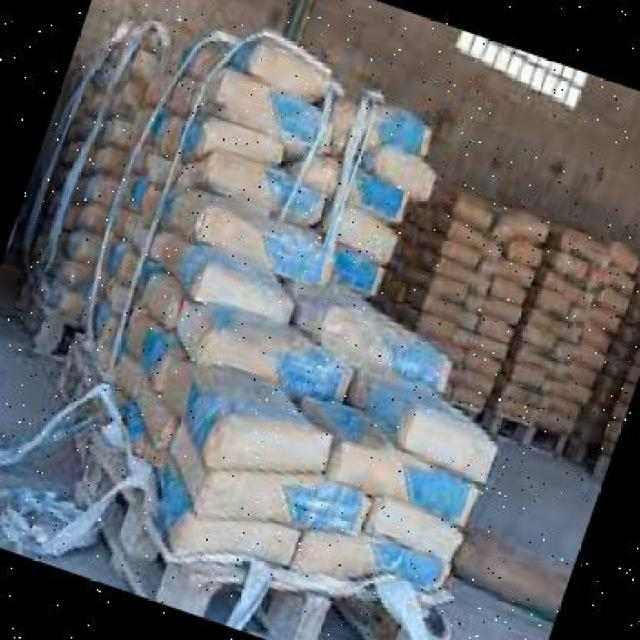gunny_bag: (190, 195, 341, 289), (197, 325, 356, 405), (327, 443, 482, 525), (192, 467, 372, 535), (317, 310, 456, 394), (288, 526, 449, 597), (200, 150, 327, 229), (213, 68, 322, 148), (110, 333, 176, 454), (190, 255, 296, 326), (400, 409, 500, 481), (209, 415, 329, 473), (177, 518, 301, 569), (362, 497, 467, 557), (193, 111, 290, 171), (106, 372, 162, 473), (323, 199, 401, 264), (251, 43, 331, 100), (122, 312, 173, 397), (361, 105, 432, 162), (341, 167, 408, 224), (374, 143, 436, 202), (129, 102, 186, 163), (85, 293, 132, 364), (117, 177, 172, 236), (136, 263, 181, 335), (285, 145, 349, 191), (110, 206, 161, 261), (127, 142, 177, 196), (99, 238, 149, 292), (330, 247, 383, 297), (423, 290, 479, 336), (141, 72, 198, 117), (315, 101, 362, 154), (75, 331, 114, 391), (561, 227, 616, 269), (449, 220, 501, 261), (434, 260, 490, 298), (417, 312, 472, 350), (157, 40, 215, 75), (492, 214, 550, 248), (542, 274, 600, 308), (430, 277, 483, 313), (458, 345, 502, 386), (544, 374, 594, 409), (590, 264, 639, 297), (549, 255, 595, 289), (504, 358, 550, 392), (530, 311, 580, 342), (534, 411, 580, 444), (99, 276, 136, 317), (443, 383, 486, 418), (437, 239, 481, 273), (495, 256, 537, 291), (566, 340, 608, 375), (454, 195, 497, 229), (515, 341, 556, 376), (575, 305, 619, 337), (546, 362, 597, 389), (502, 238, 543, 269), (542, 393, 584, 423), (476, 314, 516, 345), (479, 298, 522, 326), (452, 364, 492, 394), (537, 289, 575, 320), (522, 324, 560, 355), (476, 334, 510, 365), (503, 400, 540, 428), (488, 282, 526, 309), (504, 384, 542, 411), (595, 285, 628, 311), (612, 244, 638, 274), (581, 323, 611, 349)
